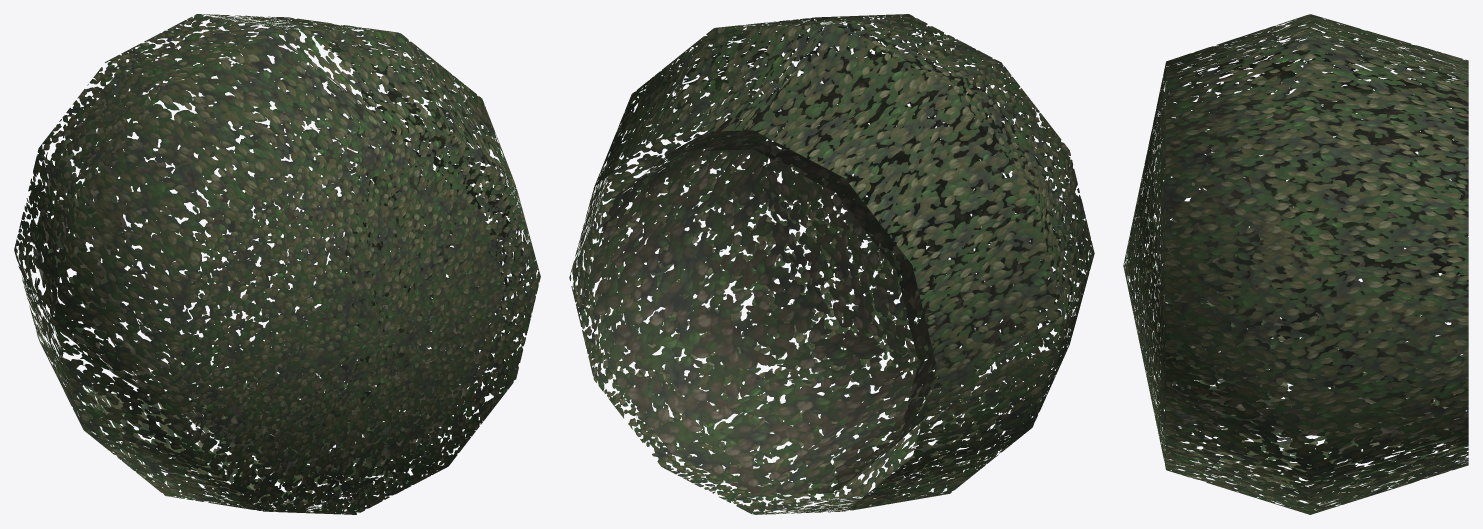
The model's file is nt_2020_foliage_hedge_sphere_LOD2.obj.
The picture shows the model from 3 angles, left to right: view 1: azimuth 30°, elevation 25°; view 2: azimuth 150°, elevation 25°; view 3: azimuth 270°, elevation 25°; orthographic projection. The views are drawn at different scales.
Parts seen in each view (by area): view 1: mtl_p6_foliage_hedge2, mtl_p6_foliage_hedge_no_alpha; view 2: mtl_p6_foliage_hedge2, mtl_p6_foliage_hedge_no_alpha; view 3: mtl_p6_foliage_hedge2, mtl_p6_foliage_hedge_no_alpha.
Part boxes in pixels (x1,y1,x2,y2): mtl_p6_foliage_hedge2: (14, 14, 540, 514); mtl_p6_foliage_hedge_no_alpha: (32, 33, 503, 475); mtl_p6_foliage_hedge2: (569, 14, 1094, 514); mtl_p6_foliage_hedge_no_alpha: (587, 53, 1057, 495); mtl_p6_foliage_hedge2: (1123, 14, 1468, 514); mtl_p6_foliage_hedge_no_alpha: (1161, 81, 1468, 443).
Bounding box in the file's own units: 134 × 131 × 90.94.
